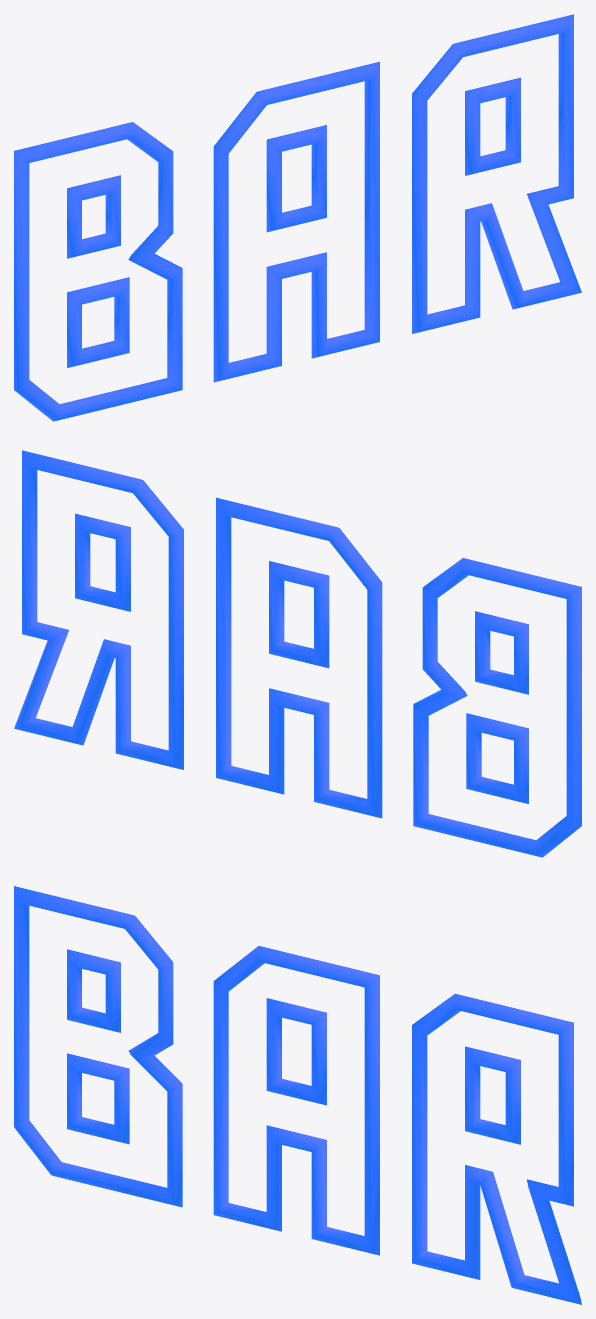
The model's file is fd3507aa-e289-47ee-b650-5189fed031dd.glb.
3 renders of one model, top to bottom at view 1: azimuth 30°, elevation 25°; view 2: azimuth 150°, elevation 25°; view 3: azimuth 330°, elevation 25°, orthographic.
Visible parts, largest first — view 1: NeonSignBar; view 2: NeonSignBar; view 3: NeonSignBar.
Boxes of the visible parts, x1,y1,x2,y2 form: NeonSignBar: (14, 14, 581, 421); NeonSignBar: (14, 450, 581, 857); NeonSignBar: (14, 886, 581, 1304).
Size of the model in its own units: 0.6282 by 0.2963 by 0.0145.
Materials: 1 (1 with a texture image).
